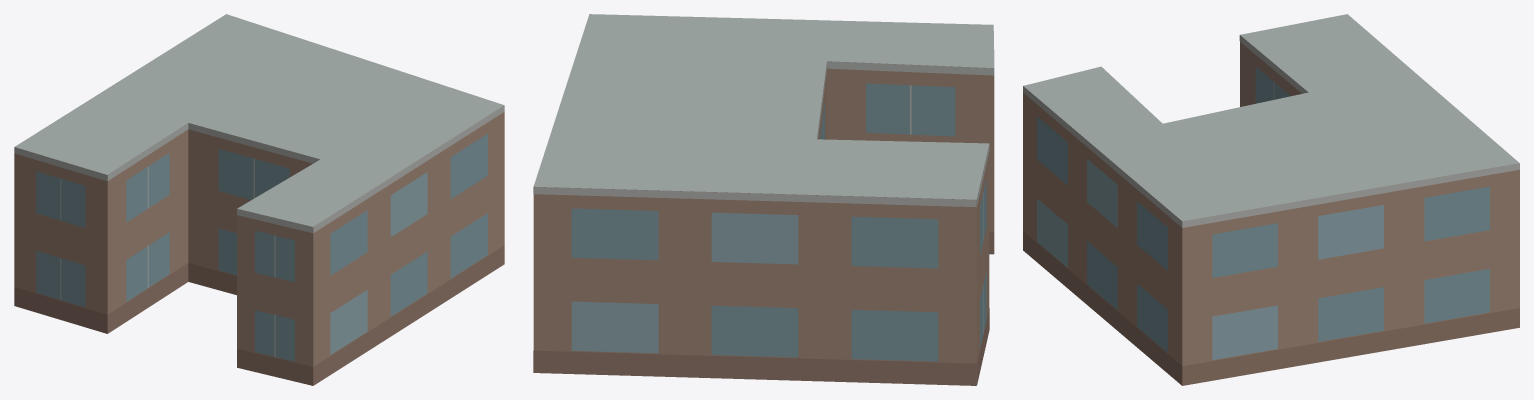
Rendered from survey-upis-32761288.glb.
The picture shows the model from 3 angles, left to right: view 1: azimuth 30°, elevation 25°; view 2: azimuth 150°, elevation 25°; view 3: azimuth 270°, elevation 25°; orthographic projection. The views are drawn at different scales.
Parts seen in each view (by area): view 1: survey-upis-32761288.tmp; view 2: survey-upis-32761288.tmp; view 3: survey-upis-32761288.tmp.
Part boxes in pixels (left/top/right/bottom): survey-upis-32761288.tmp: left=14, top=14, right=504, bottom=385; survey-upis-32761288.tmp: left=533, top=14, right=994, bottom=385; survey-upis-32761288.tmp: left=1023, top=14, right=1519, bottom=385.
Bounding box in the file's own units: 16.5 × 6.1 × 16.7.
